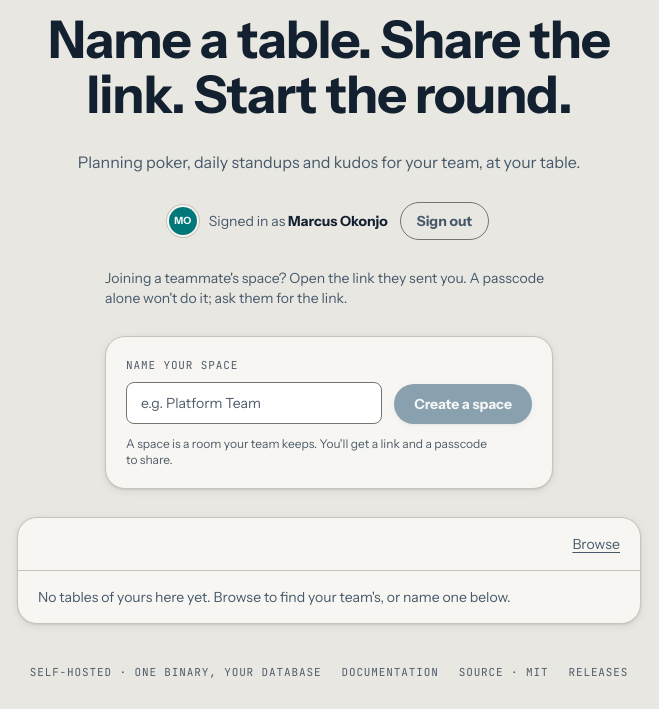
Landing › offers Try again after a failed create, and withdraws it once the space exists
(page scrolled)
Type "Platform Team" into the field with placeholder "e.g. Platform Team" at (254, 403), box left=126, top=382, right=382, bottom=424
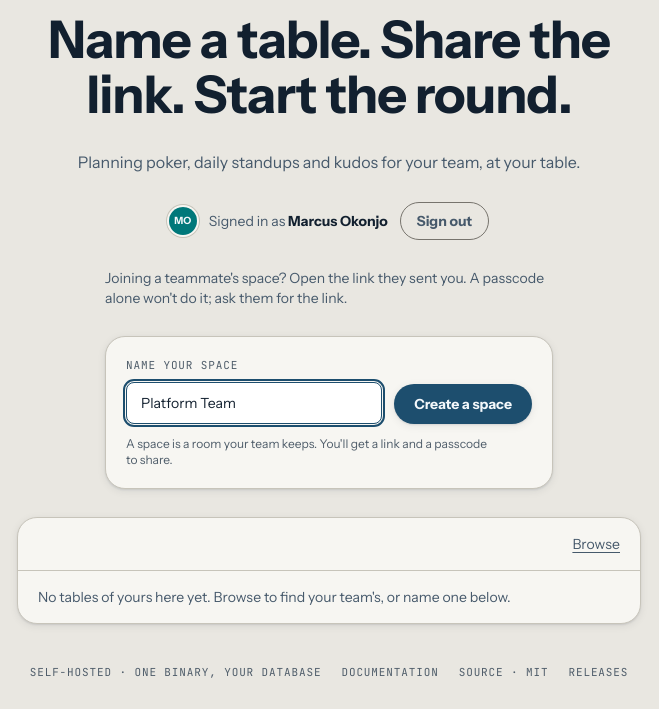
Click the button "Create a space" at (463, 404), box left=394, top=384, right=532, bottom=424
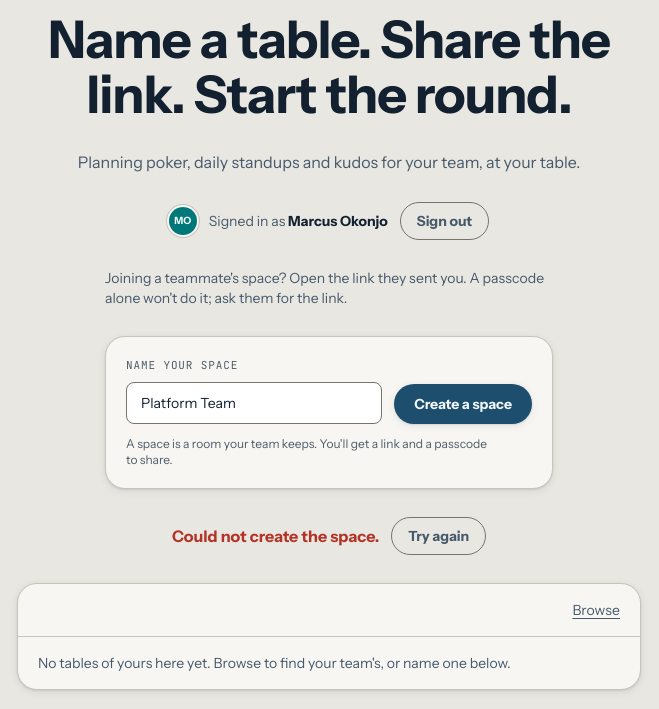
Now the text "Could not create the space." is shown, box left=172, top=526, right=379, bottom=546
Now the button "Try again" is shown
Click the button "Try again" at (439, 536), box left=391, top=517, right=486, bottom=555
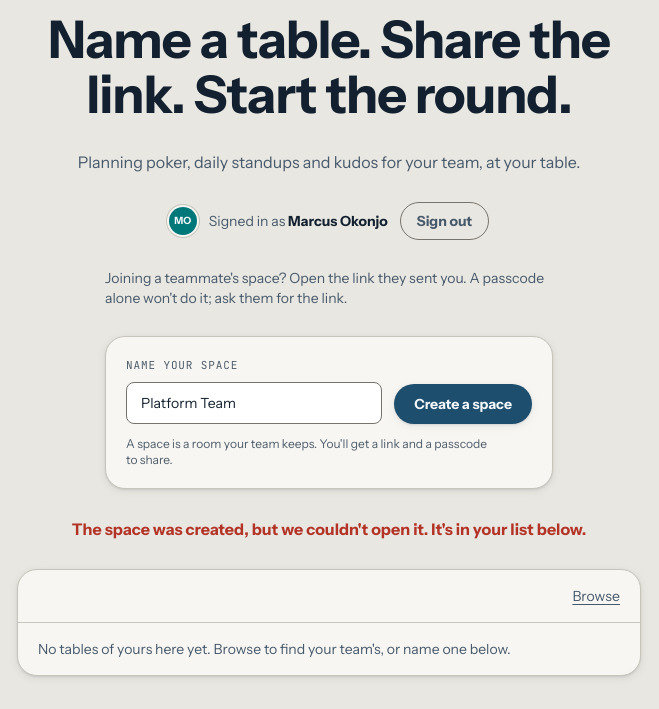
Now the text "The space was created, but we couldn't open it. It's in your list below." is shown, box left=72, top=517, right=586, bottom=541
Now the button "Try again" is gone
